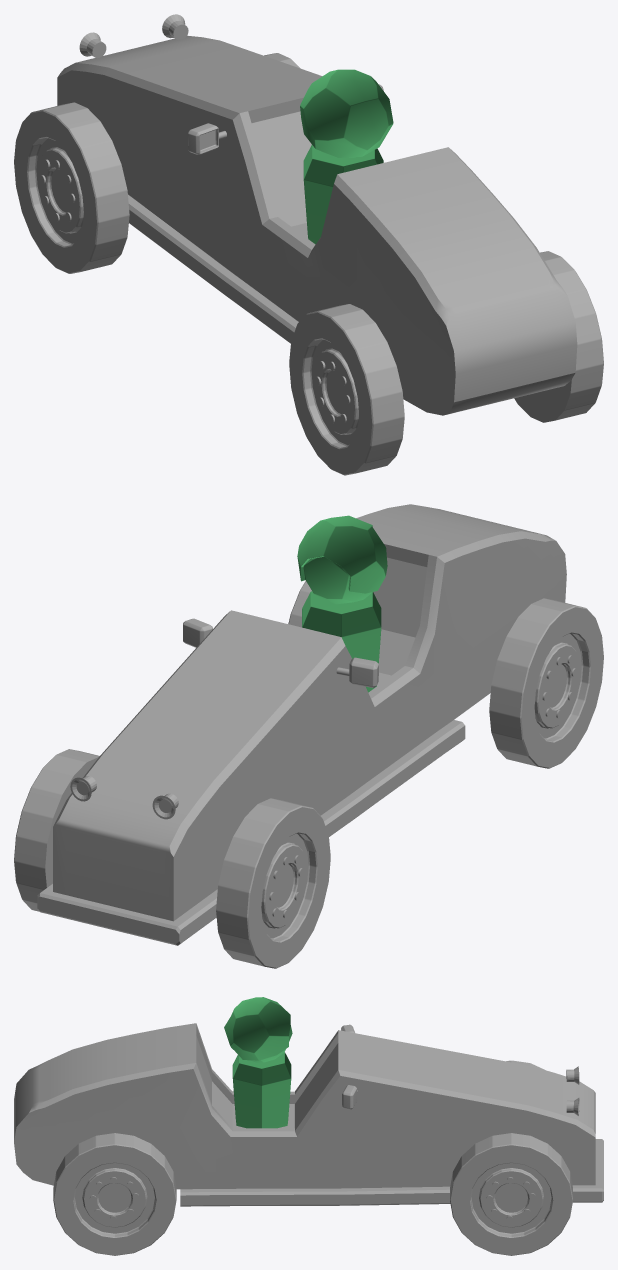
Rendered from Car_Model.fbx.
The picture shows the model from 3 angles, top to bottom: view 1: azimuth 30°, elevation 25°; view 2: azimuth 150°, elevation 25°; view 3: azimuth 270°, elevation 25°; orthographic projection. The views are drawn at different scales.
Parts seen in each view (by area): view 1: pCube8, pCylinder23, pCylinder26, polySurface8, pCylinder28, pCylinder25; view 2: pCube8, pCylinder26, pCylinder23, polySurface8, pCylinder27, pCylinder25, pCube7; view 3: pCube8, pCylinder28, pCylinder27, polySurface8.
Boxes of the visible parts, x1,y1,x2,y2 form: pCube8: [57, 35, 577, 415]; pCylinder23: [14, 102, 129, 273]; pCylinder26: [289, 304, 404, 475]; polySurface8: [300, 69, 393, 244]; pCylinder28: [514, 251, 603, 422]; pCylinder25: [188, 123, 226, 154]; pCube8: [37, 504, 566, 945]; pCylinder26: [489, 598, 603, 768]; pCylinder23: [216, 798, 330, 968]; polySurface8: [297, 515, 387, 692]; pCylinder27: [14, 749, 99, 911]; pCylinder25: [336, 657, 378, 687]; pCube7: [183, 618, 212, 647]; pCube8: [14, 1023, 603, 1206]; pCylinder28: [53, 1133, 176, 1255]; pCylinder27: [450, 1133, 572, 1255]; polySurface8: [224, 997, 292, 1128].
Size of the model in its own units: 9.71 by 28.69 by 11.42.
